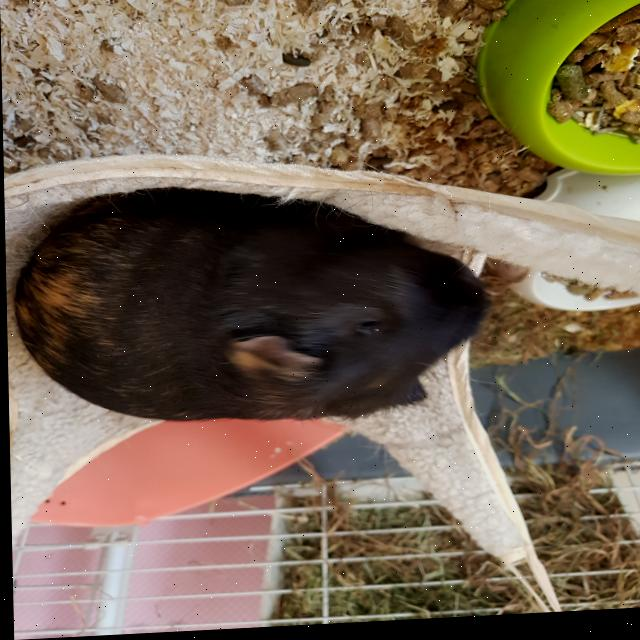guinea pig: (8, 172, 497, 440)
